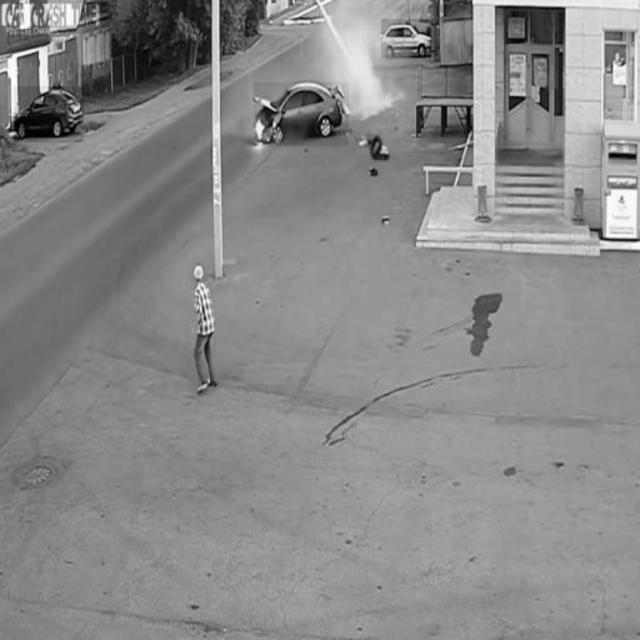person: (191, 263, 219, 395)
vehicle: (254, 83, 348, 147), (14, 87, 84, 143), (382, 19, 434, 57)
